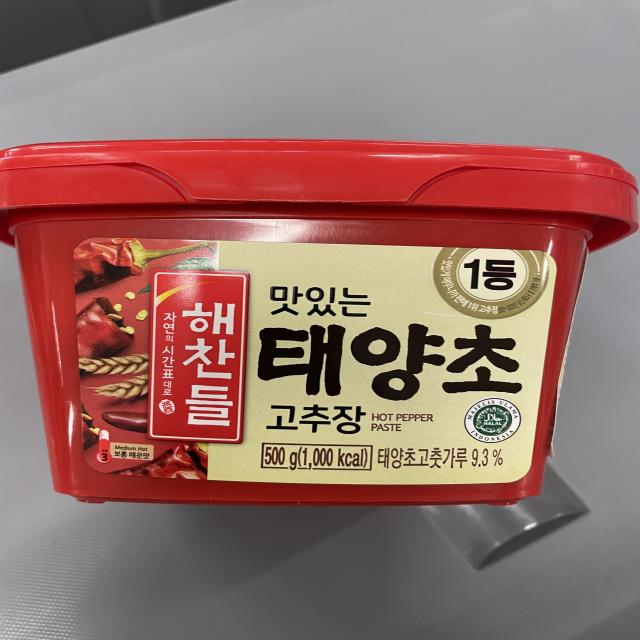object_name: (13, 143, 618, 490)
